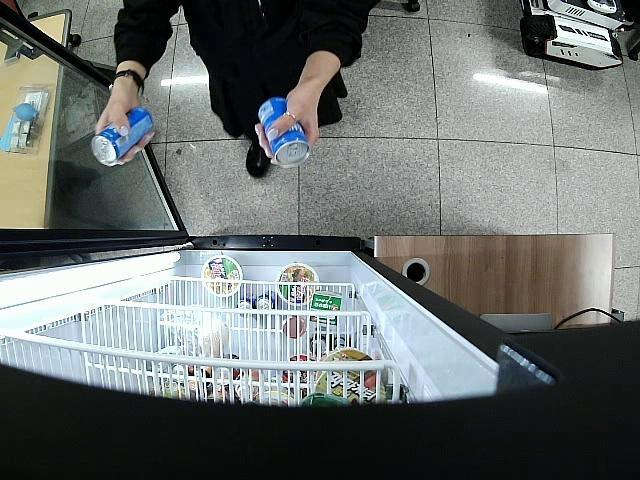15_letsbe: (92, 107, 154, 168), (258, 96, 309, 167)
